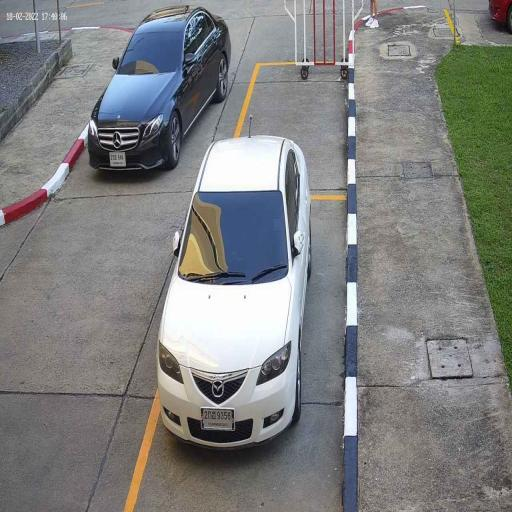car: (156, 131, 312, 454), (85, 8, 234, 174)
